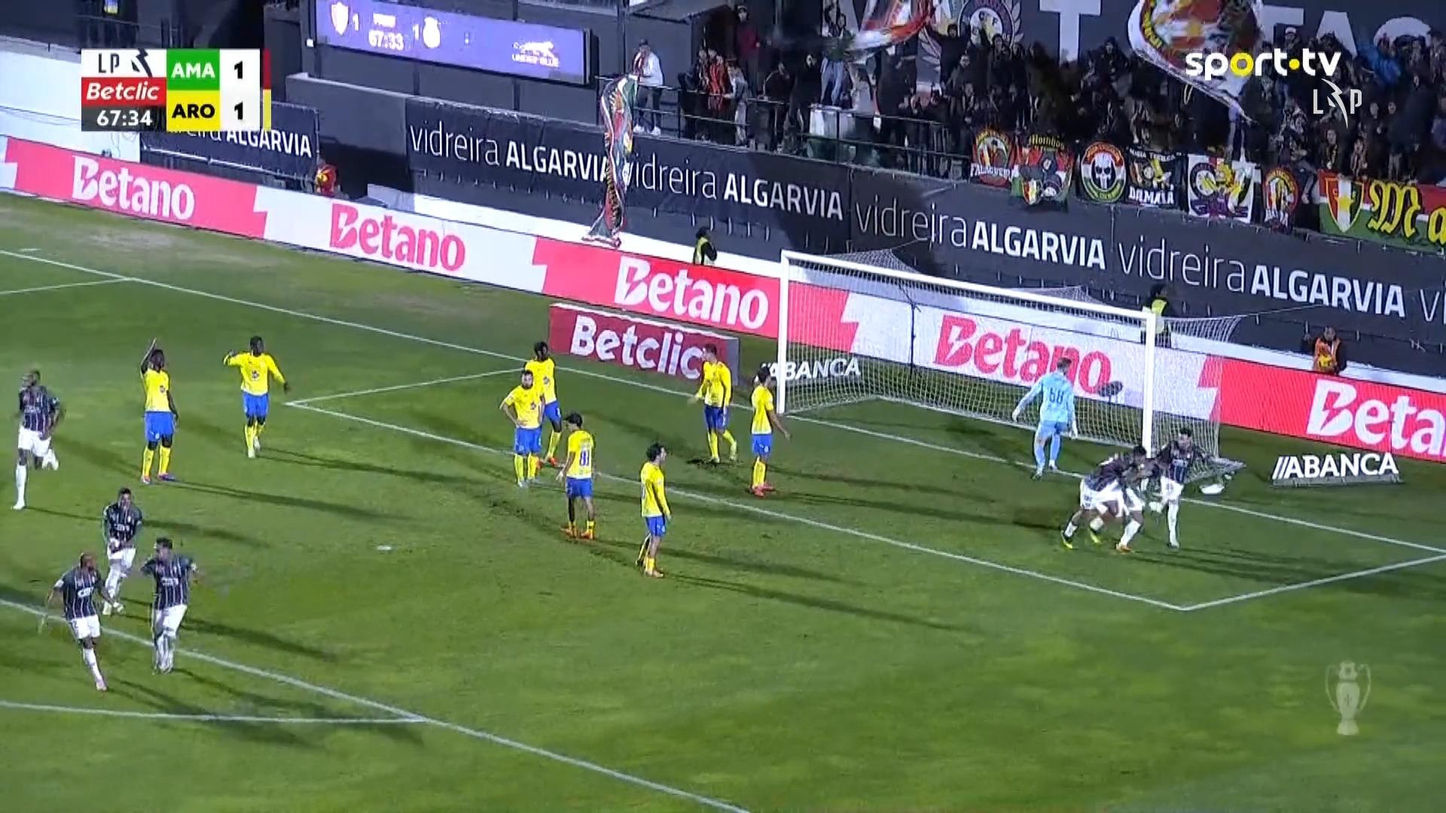goalkeeper: (1010, 355, 1078, 480)
player: (39, 550, 124, 692), (139, 535, 202, 674), (221, 334, 290, 458), (1059, 455, 1143, 553), (1147, 425, 1209, 550), (11, 367, 63, 510), (745, 367, 792, 497), (137, 342, 179, 485), (691, 342, 739, 464), (499, 368, 547, 488), (99, 486, 143, 615), (554, 410, 596, 540), (522, 340, 563, 466), (635, 442, 672, 577)
